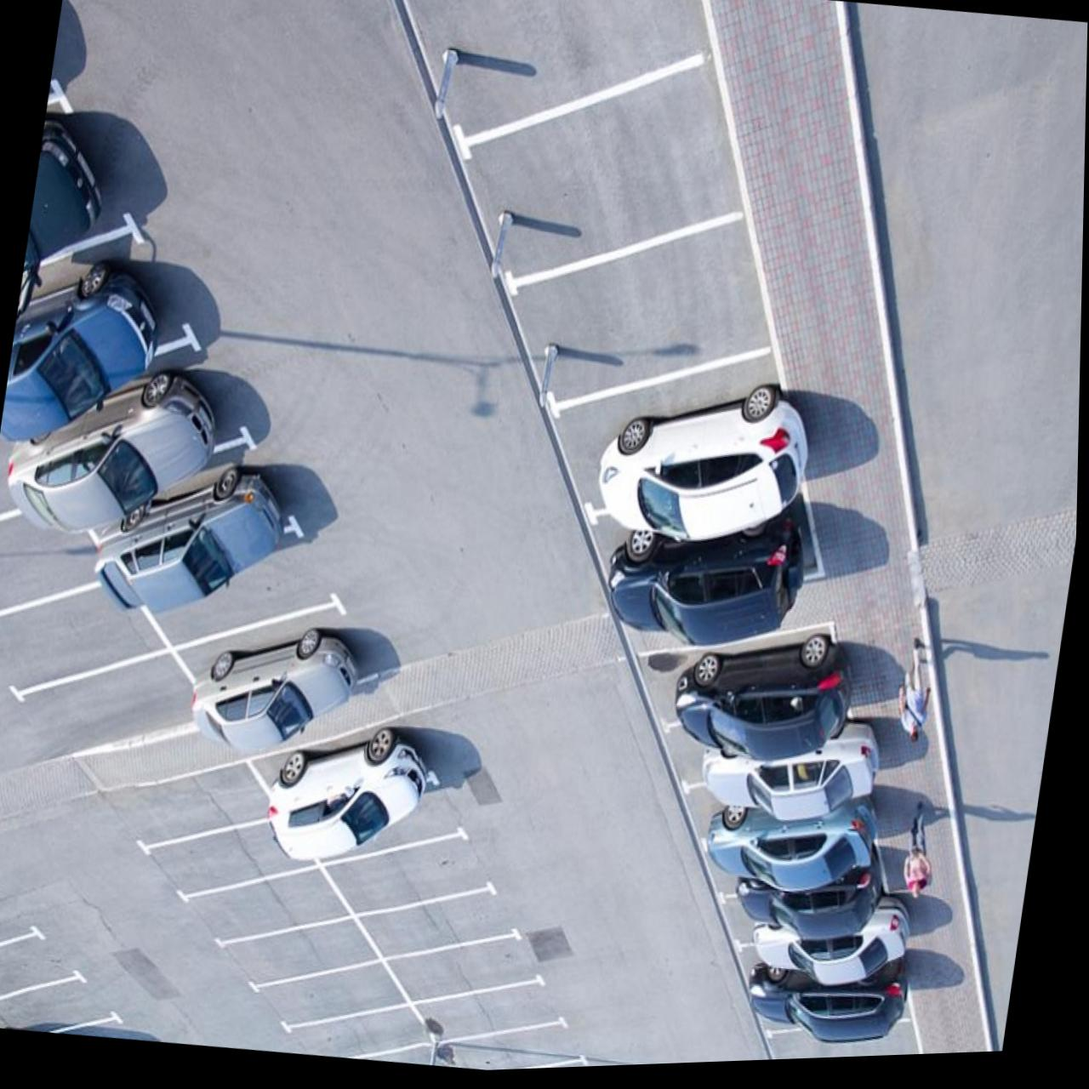cars: (462, 54, 753, 283), (556, 358, 803, 560), (500, 224, 759, 416), (390, 0, 682, 160), (0, 221, 179, 451), (46, 338, 246, 519), (118, 451, 320, 617), (652, 608, 861, 764), (596, 508, 797, 662), (211, 590, 390, 752), (270, 717, 444, 853), (689, 760, 863, 884), (678, 701, 855, 814), (731, 932, 902, 1034), (724, 880, 894, 982), (706, 836, 873, 926)
empty: (165, 512, 359, 673), (20, 650, 186, 769), (0, 577, 161, 691), (341, 809, 490, 928), (325, 754, 471, 873), (396, 907, 544, 1023), (375, 866, 517, 981), (239, 941, 396, 1045), (155, 817, 301, 917), (219, 902, 365, 1002), (435, 947, 563, 1056), (192, 855, 326, 953), (129, 749, 260, 849), (747, 976, 906, 1057), (0, 511, 106, 628), (449, 1002, 586, 1071), (0, 962, 110, 1041), (762, 1006, 915, 1060), (0, 916, 60, 1017), (0, 864, 27, 983)
